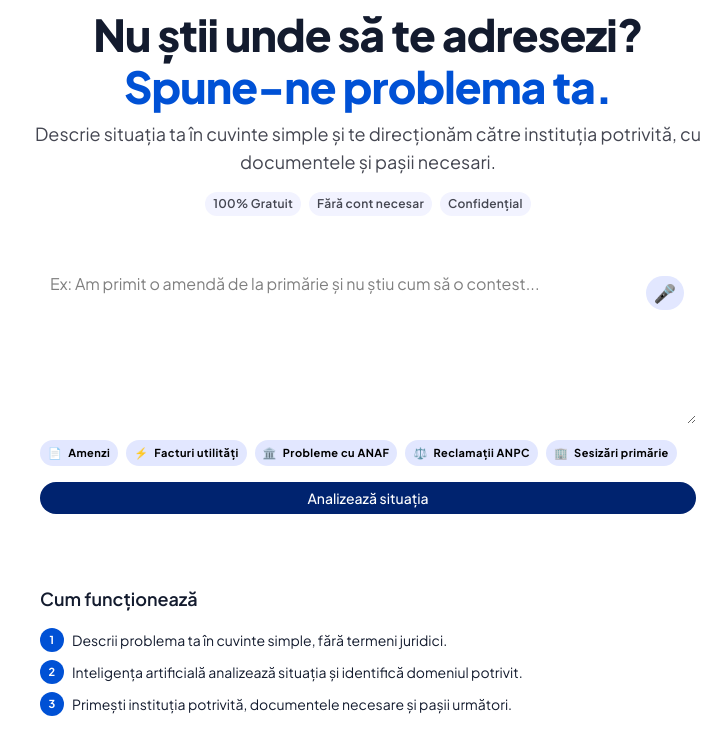
Test: HomePage › shows an error message when the request fails
The width and height of the screenshot is (717, 733).
In the text box named "Descrierea problemei": coordinates (368, 344) left=40, top=264, right=696, bottom=424, type "Am o problemă cu ANAF"
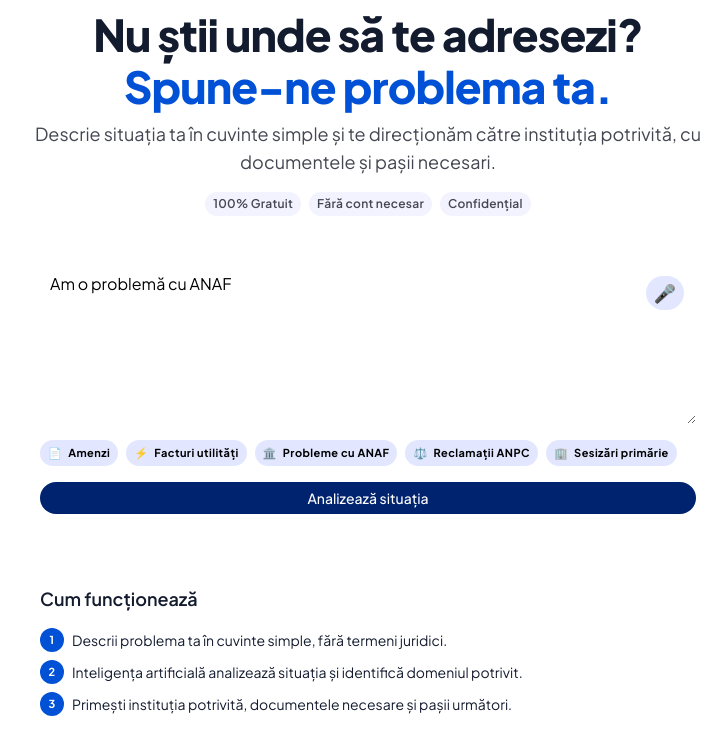
Click the button "Analizează situația": coordinates (368, 498) left=40, top=482, right=696, bottom=514
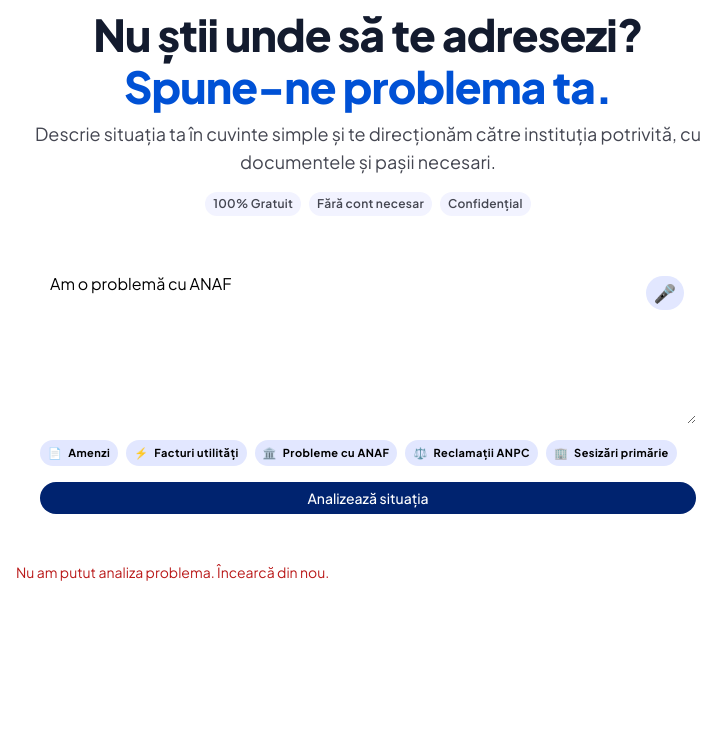
Expected: the message shows "Nu am putut analiza problema", left=16, top=563, right=329, bottom=581
